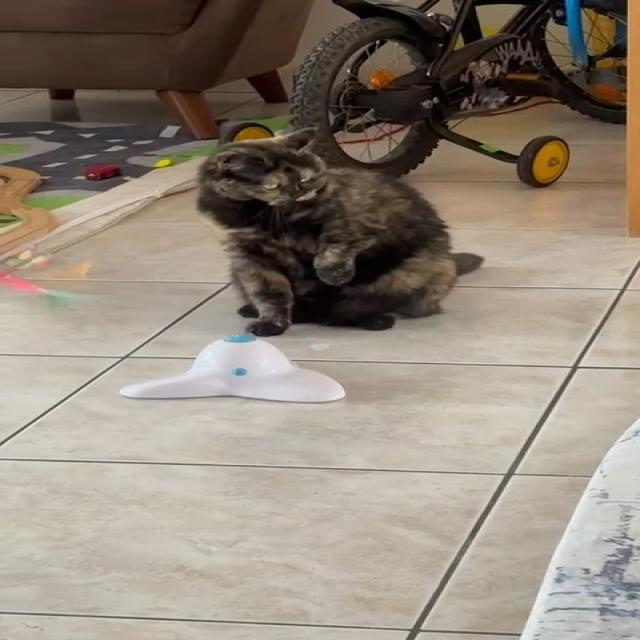authorized: (193, 126, 483, 337)
